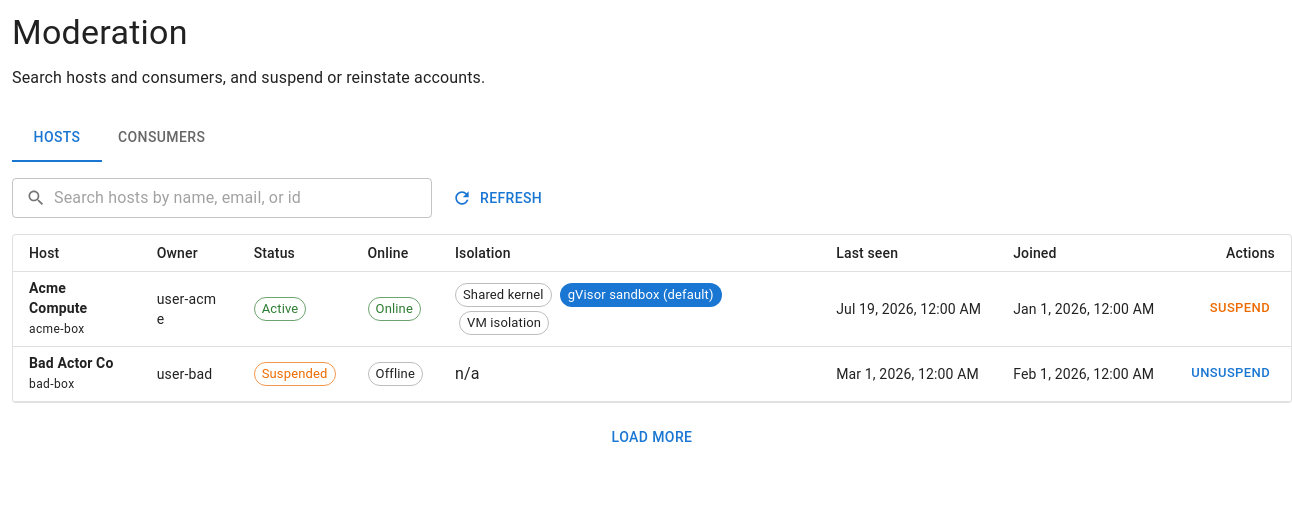
Test case: Moderation › reveals rows past the first page via Load more (uses next_offset)
Check: the text "Acme Compute" is shown, box [29,280,87,316]
Check: the text "Overflow Host" is not shown
Step 1. Click the button "Load more" → {"x": 652, "y": 437}, box [604,419,700,455]
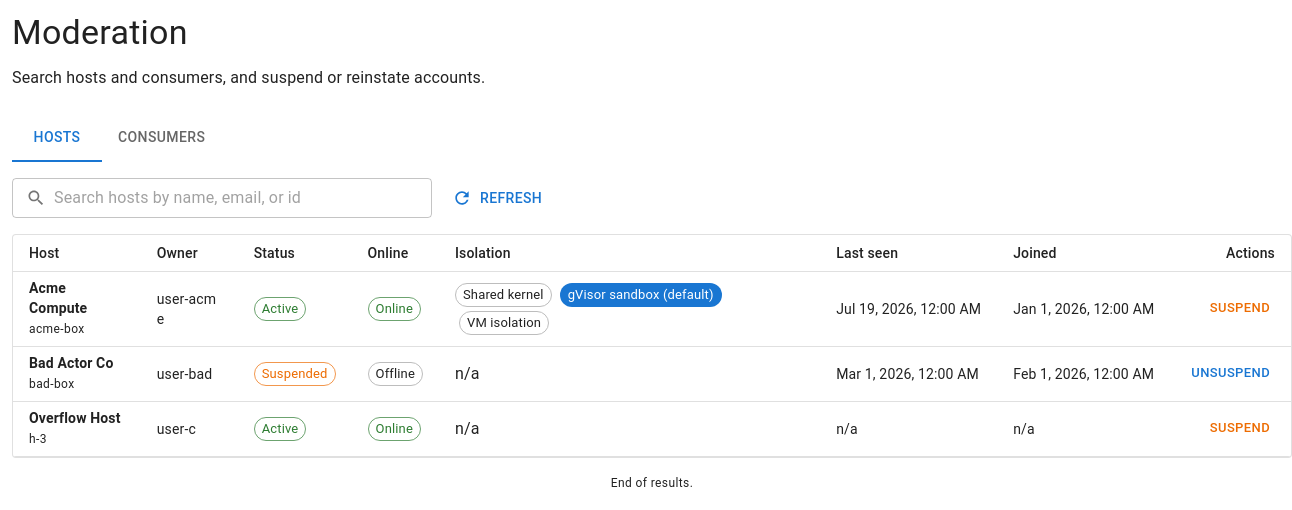
Check: the text "Overflow Host" is shown, box [29,408,125,428]
Check: the button "Load more" is gone
Check: the text "End of results." is shown, box [611,474,693,494]
